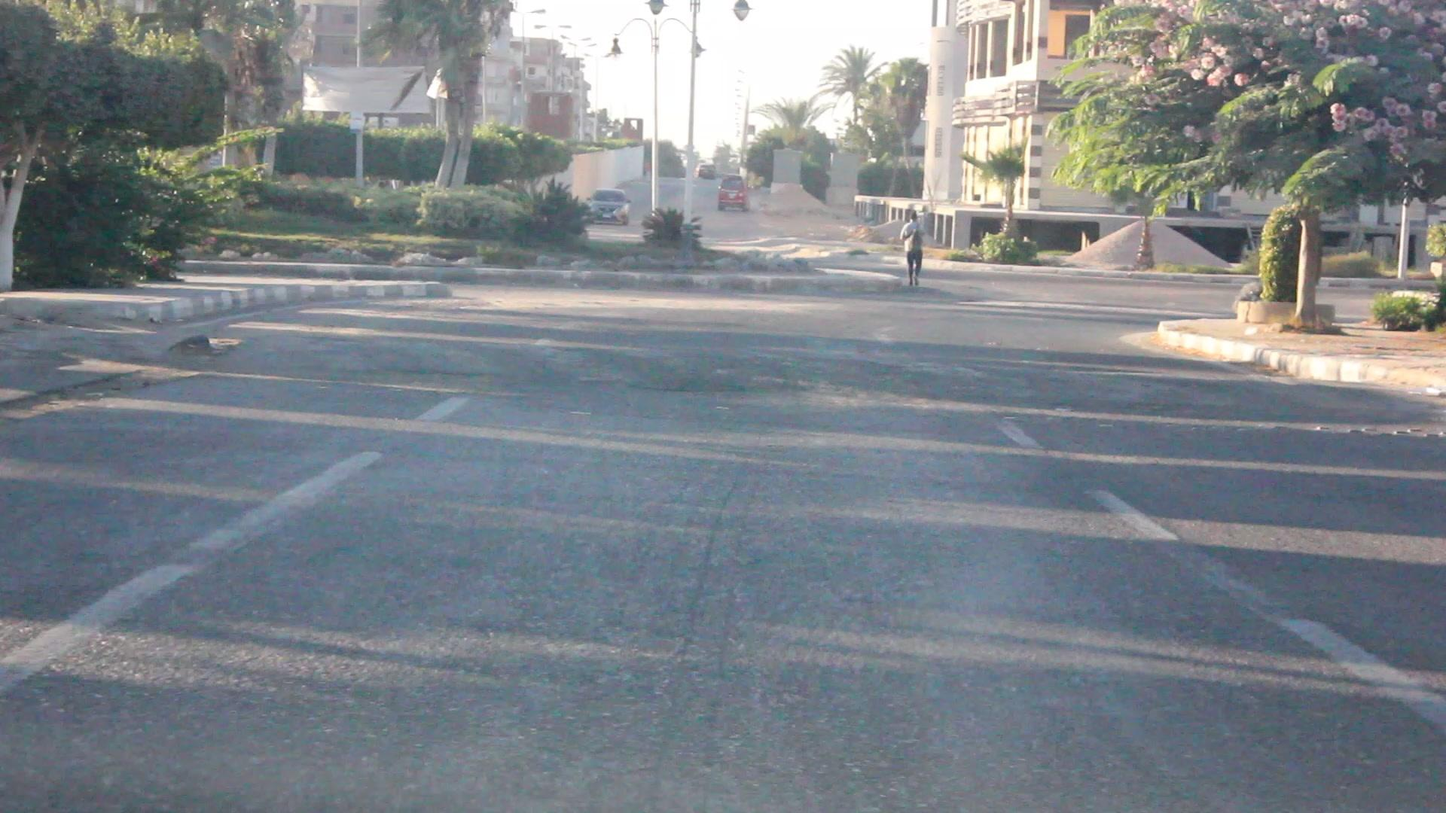Bump: (243, 326, 1282, 410)
